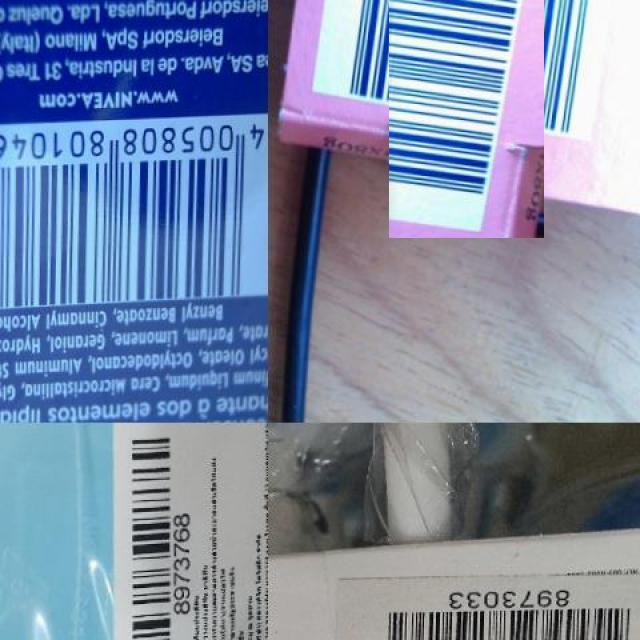Barcode: (0, 122, 268, 314), (347, 0, 585, 197), (112, 423, 190, 640), (367, 587, 637, 640)
